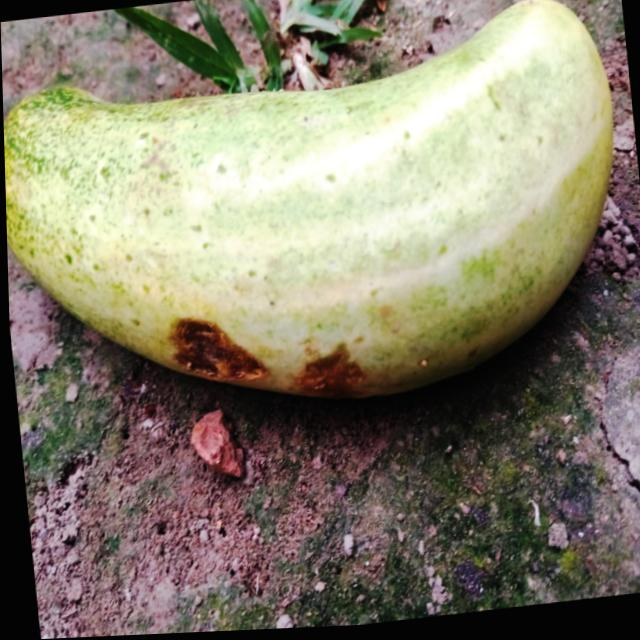Belly-Rot: (159, 296, 273, 399), (288, 335, 373, 407)
